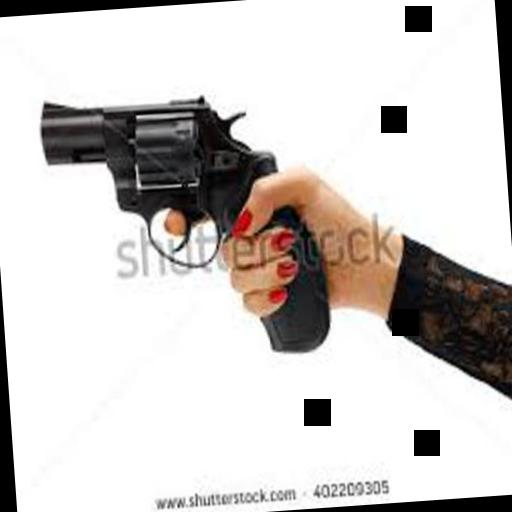Handgun: (29, 76, 335, 376)
